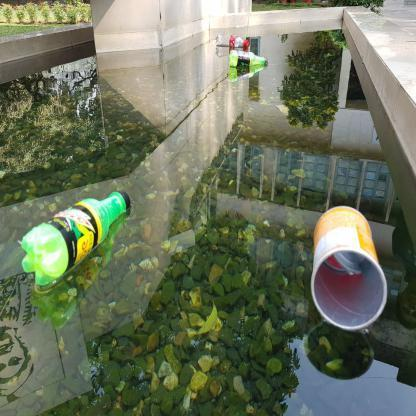plastic bottle: (21, 189, 131, 285), (228, 50, 268, 66), (215, 33, 249, 48)
